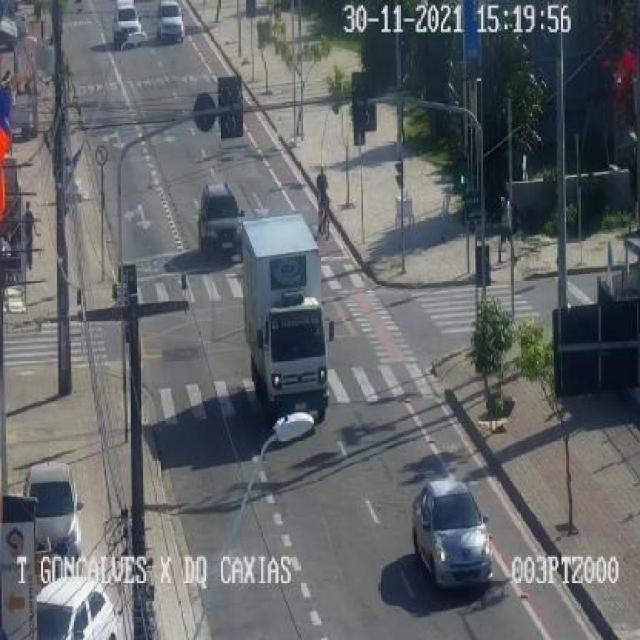Car: (240, 211, 335, 426), (412, 479, 495, 588), (21, 462, 82, 561), (34, 575, 115, 640), (198, 182, 243, 258), (110, 0, 146, 47), (154, 0, 186, 41)
Cycle: (317, 196, 331, 242)
